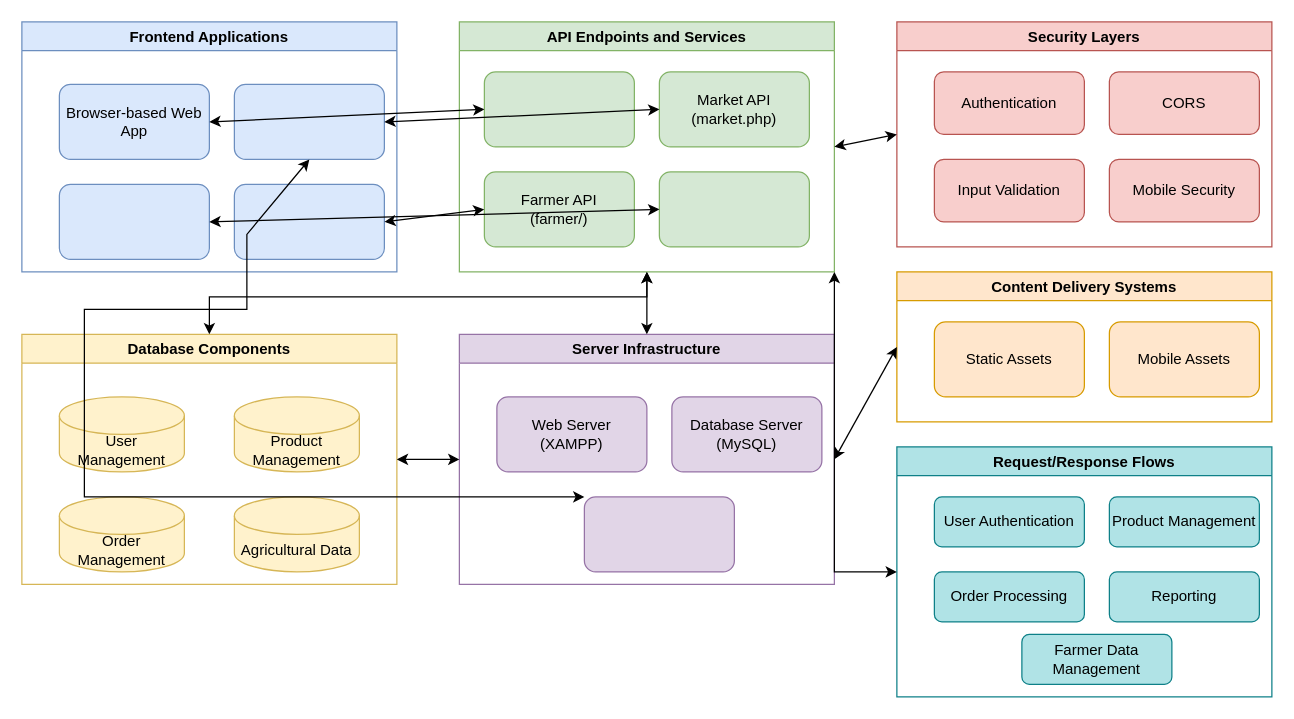
This 1294x719 diagram has some shape labels left out. Each missing label, with the centre of its shape:
"Admin Dashboard" goes at (x=133, y=221).
"Authentication API (login.php)" goes at (x=558, y=109).
"Farmer Dashboard" goes at (x=308, y=221).
"Mobile App (React Native)" goes at (x=308, y=121).
"Mobile Deployment (Expo/React Native)" goes at (x=658, y=534).
"Order API (OrderController)" goes at (x=733, y=209).
